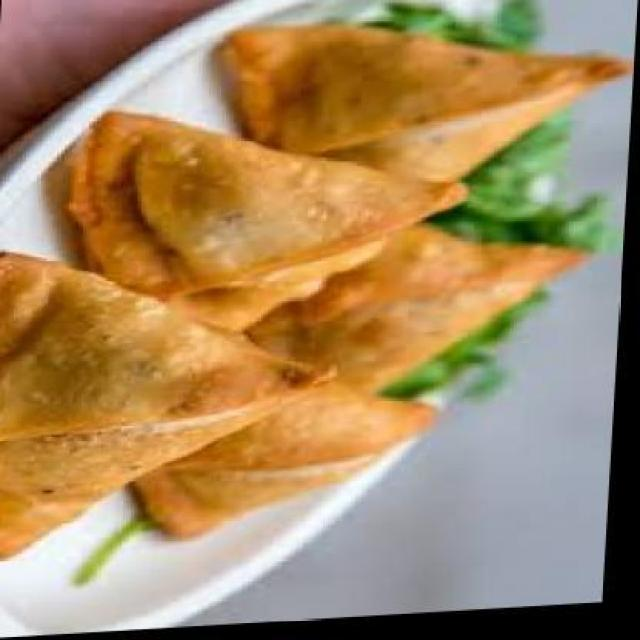samosa: (0, 234, 345, 561), (64, 96, 470, 342), (207, 11, 638, 197), (238, 220, 592, 405), (135, 376, 443, 546)
